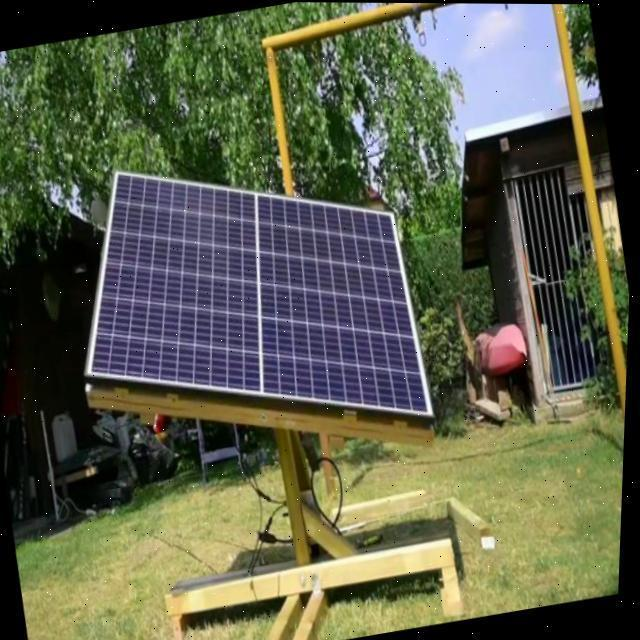Normal Solar Panel: (55, 126, 443, 470)
